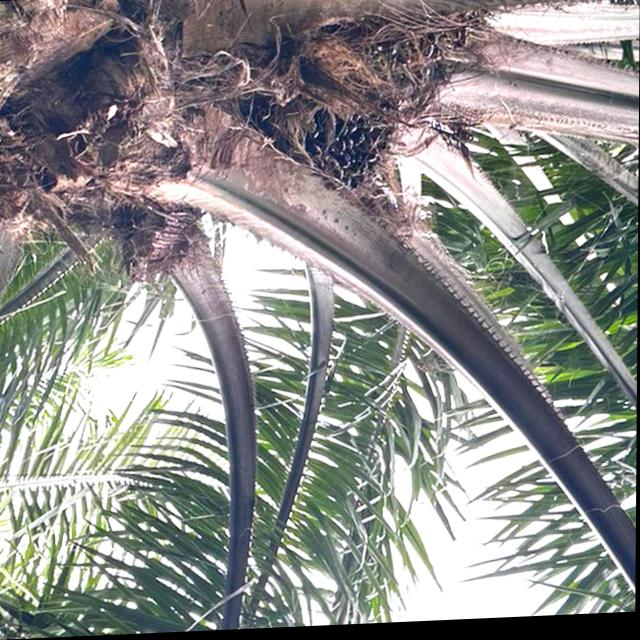unripe: (239, 50, 408, 204)
